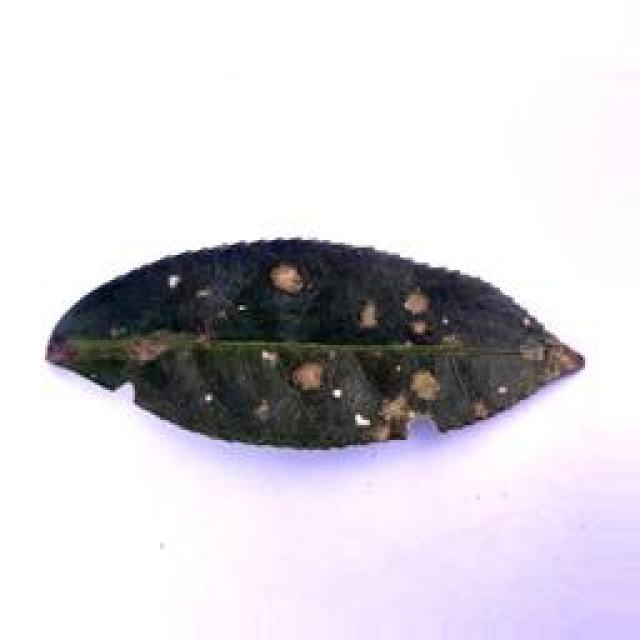Algal Leaf Spot: (39, 230, 580, 458)
